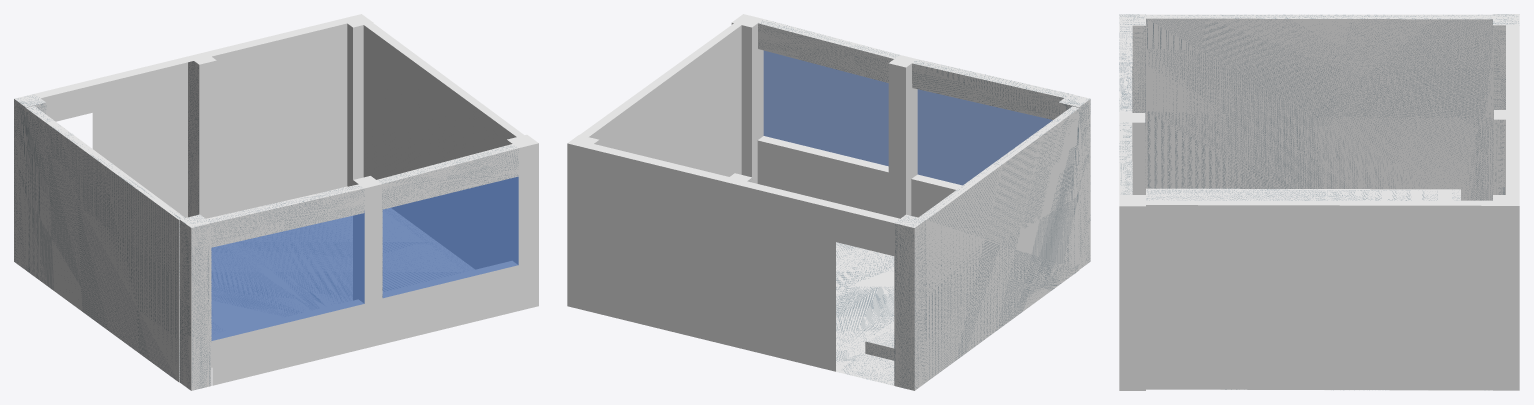
The model's file is Aula1.fbx.
The picture shows the model from 3 angles, left to right: view 1: azimuth 30°, elevation 25°; view 2: azimuth 150°, elevation 25°; view 3: azimuth 270°, elevation 25°; orthographic projection. The views are drawn at different scales.
Visible parts, largest first — view 1: Model, Group1, Group3, Group4, Group2; view 2: Model, Group2, Group4, Group3, Group1; view 3: Model, Group3, Group4, Group1, Group2.
Boxes of the visible parts, box(x1,y1,x2,y2) form: Model: box(25, 19, 524, 385); Group1: box(179, 214, 211, 390); Group3: box(506, 134, 538, 310); Group4: box(342, 14, 373, 186); Group2: box(14, 94, 46, 269); Model: box(580, 19, 1079, 385); Group2: box(894, 214, 926, 390); Group4: box(567, 135, 599, 310); Group3: box(731, 14, 763, 183); Group1: box(1058, 94, 1090, 269); Model: box(1119, 14, 1519, 390); Group3: box(1119, 195, 1145, 390); Group4: box(1493, 195, 1519, 390); Group1: box(1119, 14, 1145, 194); Group2: box(1493, 14, 1519, 194).
Size of the model in its own units: 6.82 by 3.05 by 6.
